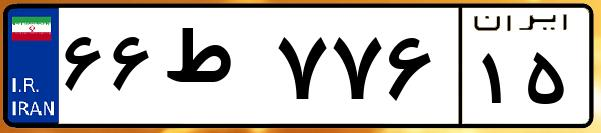1: (475, 38, 525, 113)
5: (525, 38, 570, 115)
6: (385, 28, 445, 110), (57, 26, 110, 100), (110, 28, 158, 98)
7: (270, 28, 330, 110), (330, 28, 385, 110)
ط: (158, 20, 270, 120)
